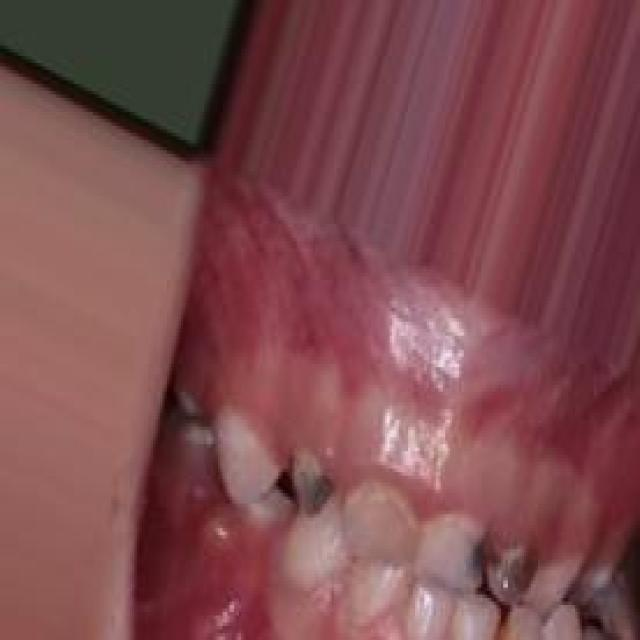caries: (486, 538, 543, 609), (288, 445, 340, 522), (461, 522, 495, 582)
